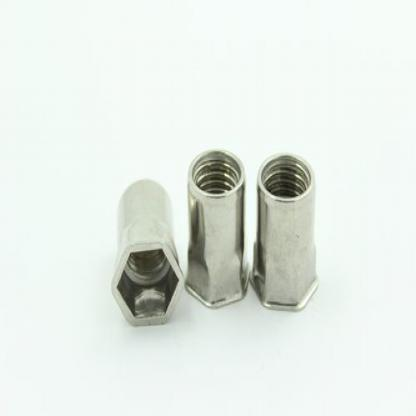FOD: (110, 176, 184, 331), (183, 148, 251, 313), (253, 154, 320, 316)
